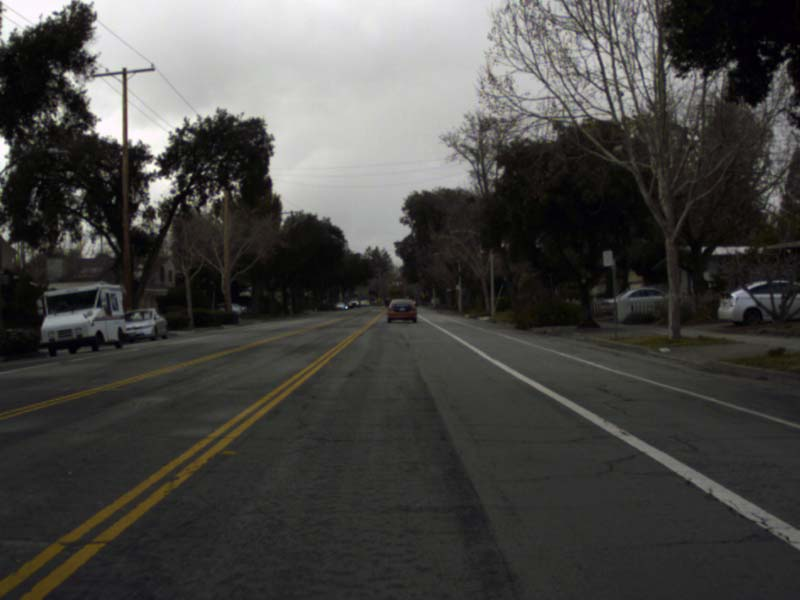Green: (354, 288, 357, 294), (387, 281, 390, 286)
Red: (399, 279, 403, 286), (415, 287, 418, 295)
